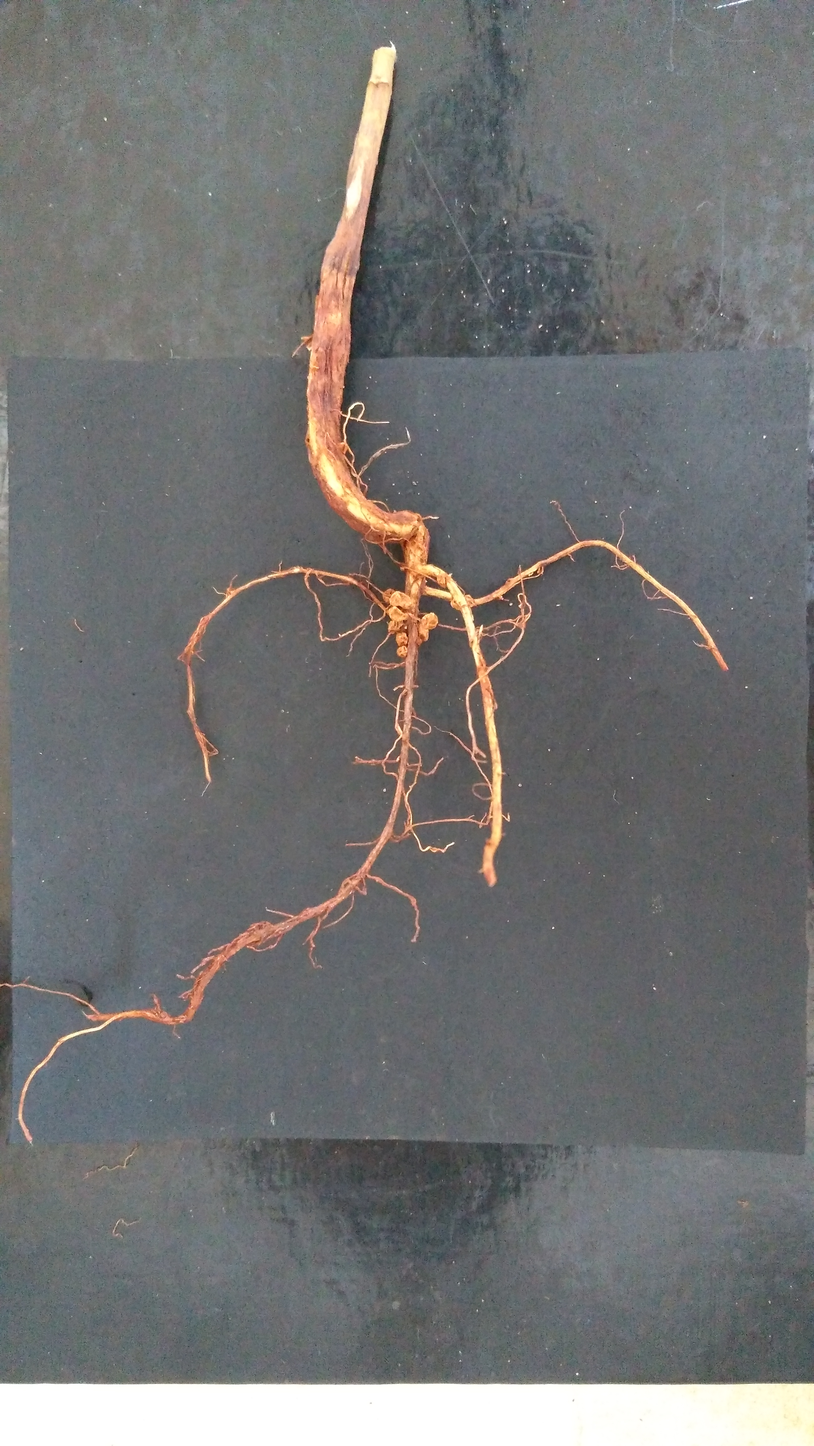nodule: (389, 590, 413, 609), (385, 603, 409, 621), (450, 595, 475, 610), (415, 620, 429, 644), (421, 612, 439, 630), (388, 620, 408, 633), (395, 632, 410, 647), (382, 588, 396, 604), (436, 573, 447, 588), (396, 645, 408, 658)
